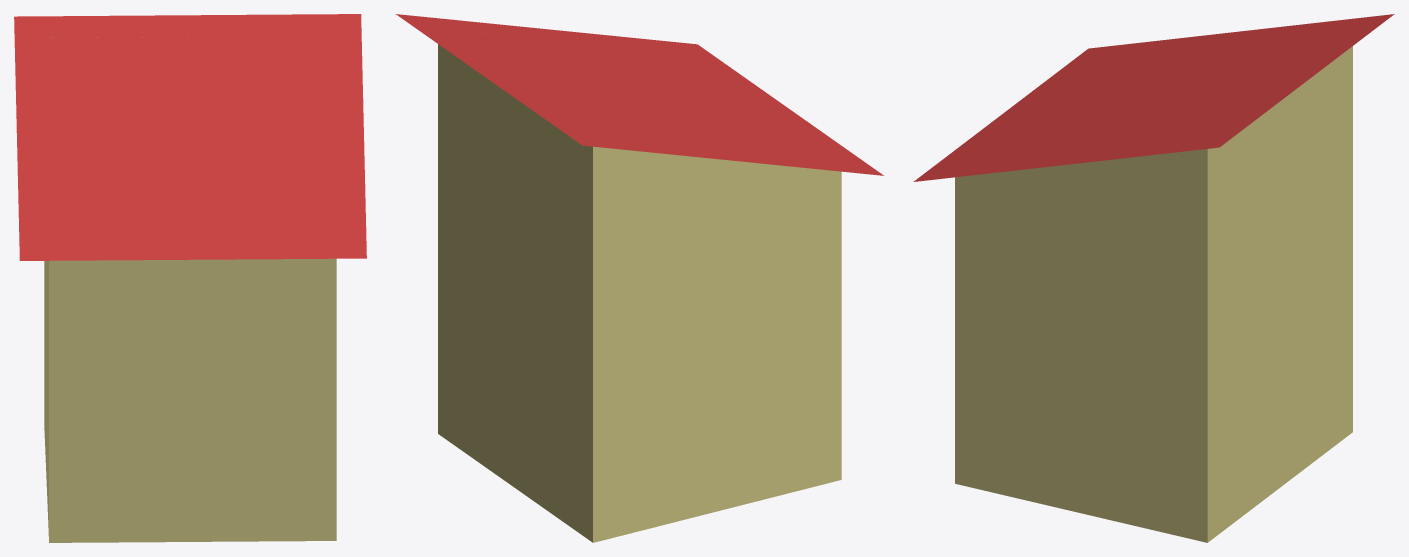
3 views of the same model, side by side, from view 1: azimuth 30°, elevation 25°; view 2: azimuth 150°, elevation 25°; view 3: azimuth 270°, elevation 25° (orthographic). The views are drawn at different scales.
Size of the model in its own units: 7.85 by 7.78 by 7.36.
